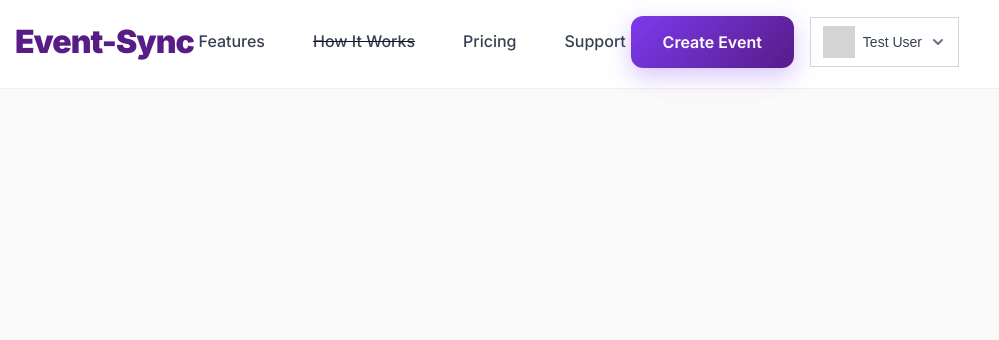
Header Component › Profile Dropdown › should toggle profile dropdown when profile button is clicked
This screenshot has width=999, height=340.
Expected: the text "Dashboard" is not shown
// Click to open dropdown
Click the button with aria-label "User profile menu": (884, 42) [810,17,959,67]
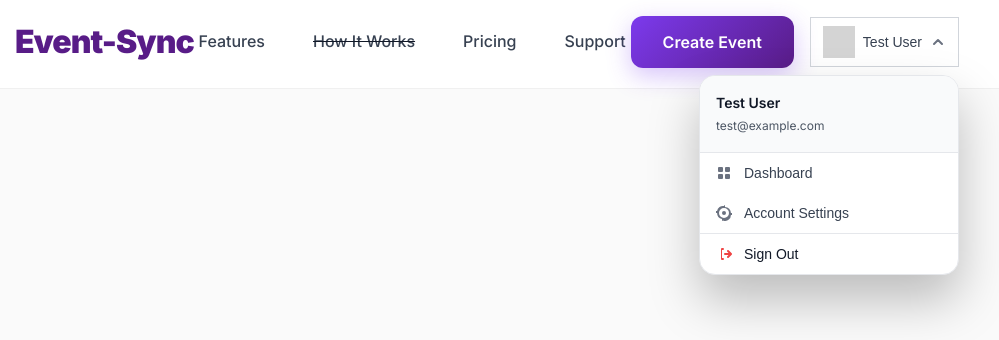
Now the button "Dashboard" is shown, box [700,153,958,193]
Now the button "Account Settings" is shown, box [700,193,958,233]
Now the button "Sign Out" is shown, box [700,234,958,274]
// Click again to close dropdown
Click the button with aria-label "User profile menu": (884, 42) [810,17,959,67]
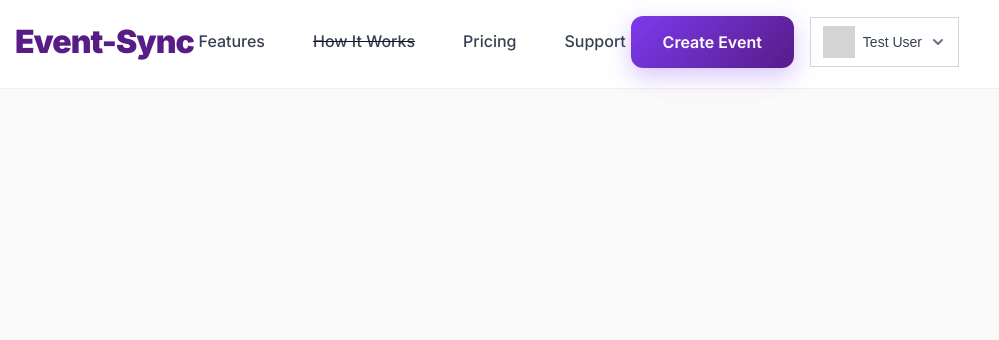
Now the button "Dashboard" is gone
